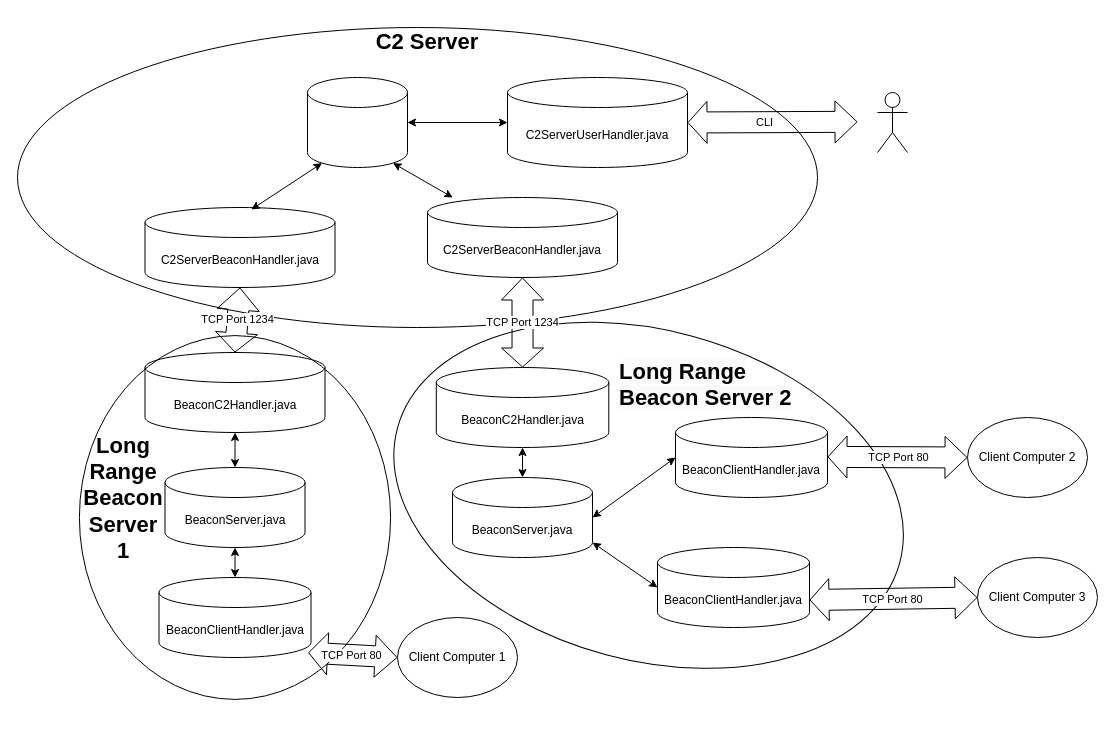
The diagram is 1115 pixels wide and 740 high, and some of its shapes have lost their labels. Here are the shapes that lost their labels. From the top down, the centre of each, then its label:
At (x=357, y=122): "C2Server.java".
At (x=892, y=122): "Threat Actor".
